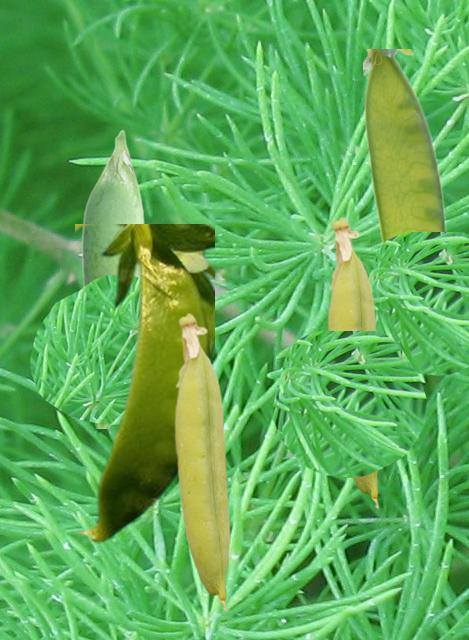pea: (75, 224, 213, 542), (81, 129, 144, 427), (174, 312, 230, 610), (363, 49, 448, 244), (327, 216, 380, 508)
